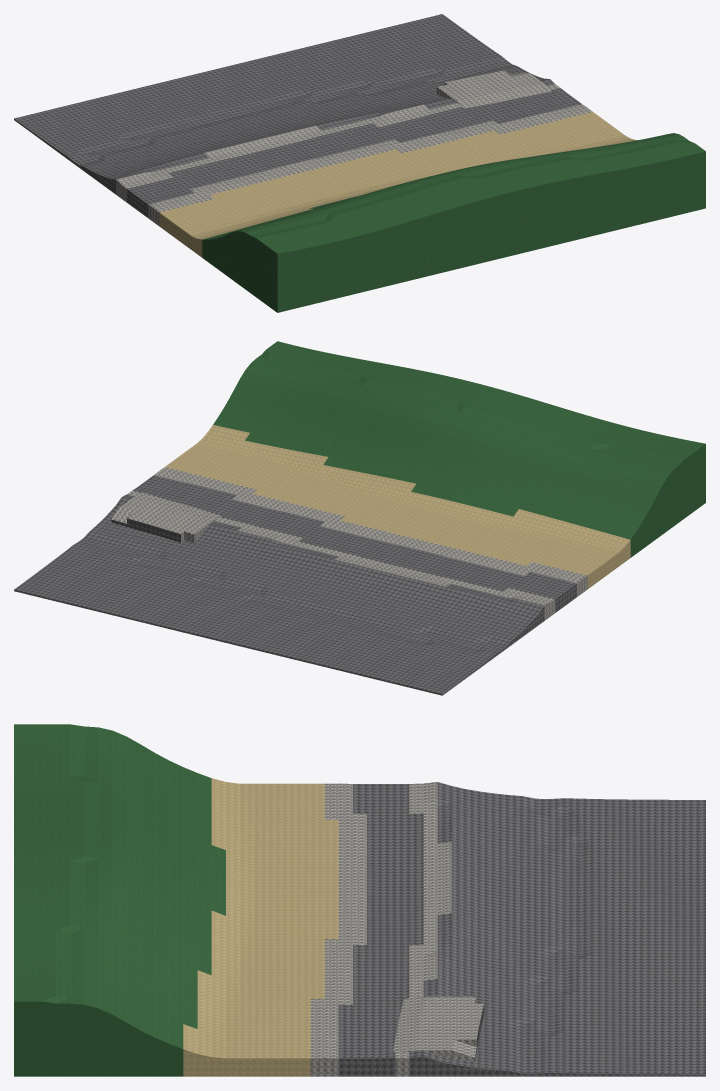
The model's file is harbour_ground.fbx.
The picture shows the model from 3 angles, top to bottom: view 1: azimuth 30°, elevation 25°; view 2: azimuth 150°, elevation 25°; view 3: azimuth 270°, elevation 25°; orthographic projection. The views are drawn at different scales.
Visible parts, largest first — view 1: harbour_ground; view 2: harbour_ground; view 3: harbour_ground.
Part boxes in pixels (left/top/right/bottom): harbour_ground: left=14, top=14, right=705, bottom=312; harbour_ground: left=14, top=341, right=705, bottom=695; harbour_ground: left=14, top=724, right=705, bottom=1076.
Size of the model in its own units: 9200 by 1310 by 9800.
